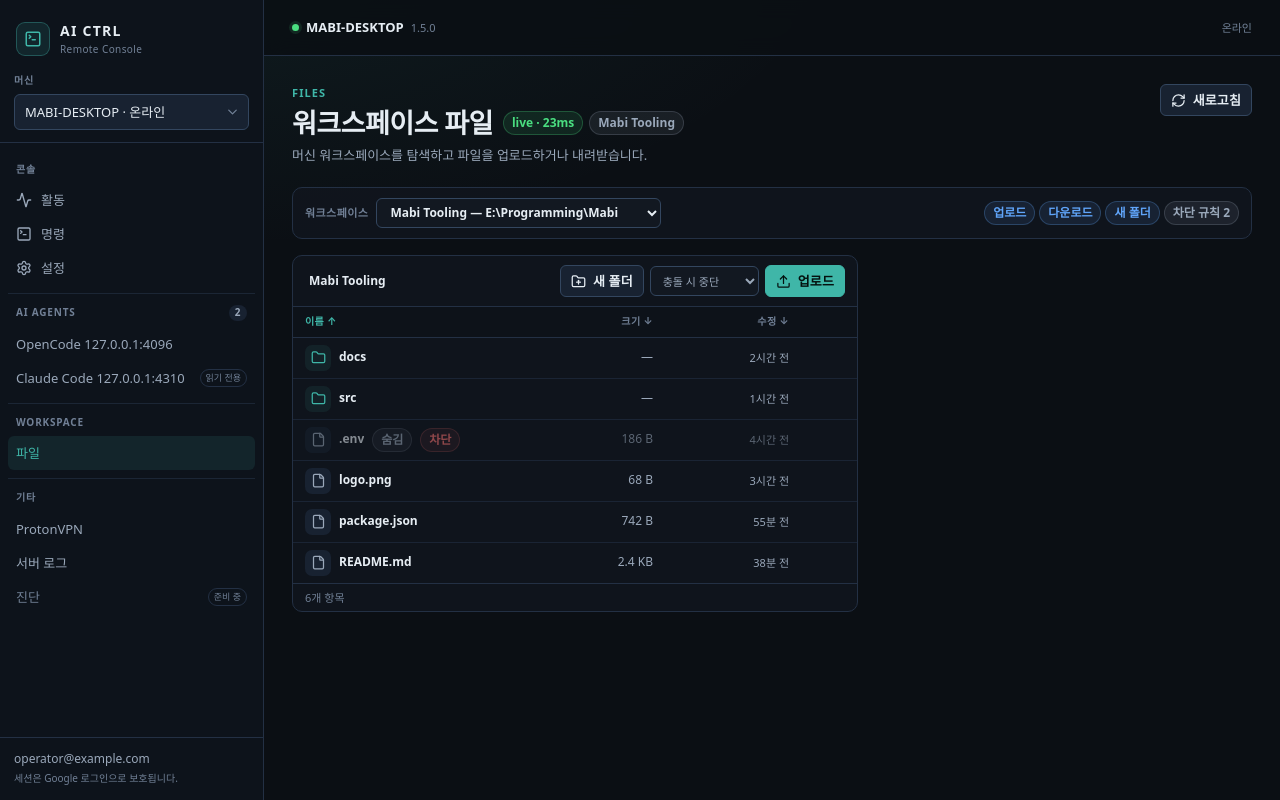
application integration › creates a folder from the files toolbar
Expected: the heading "워크스페이스 파일" is shown, [292,106,493,140]
Click the button "새 폴더" at (602, 281), box [560,265,644,297]
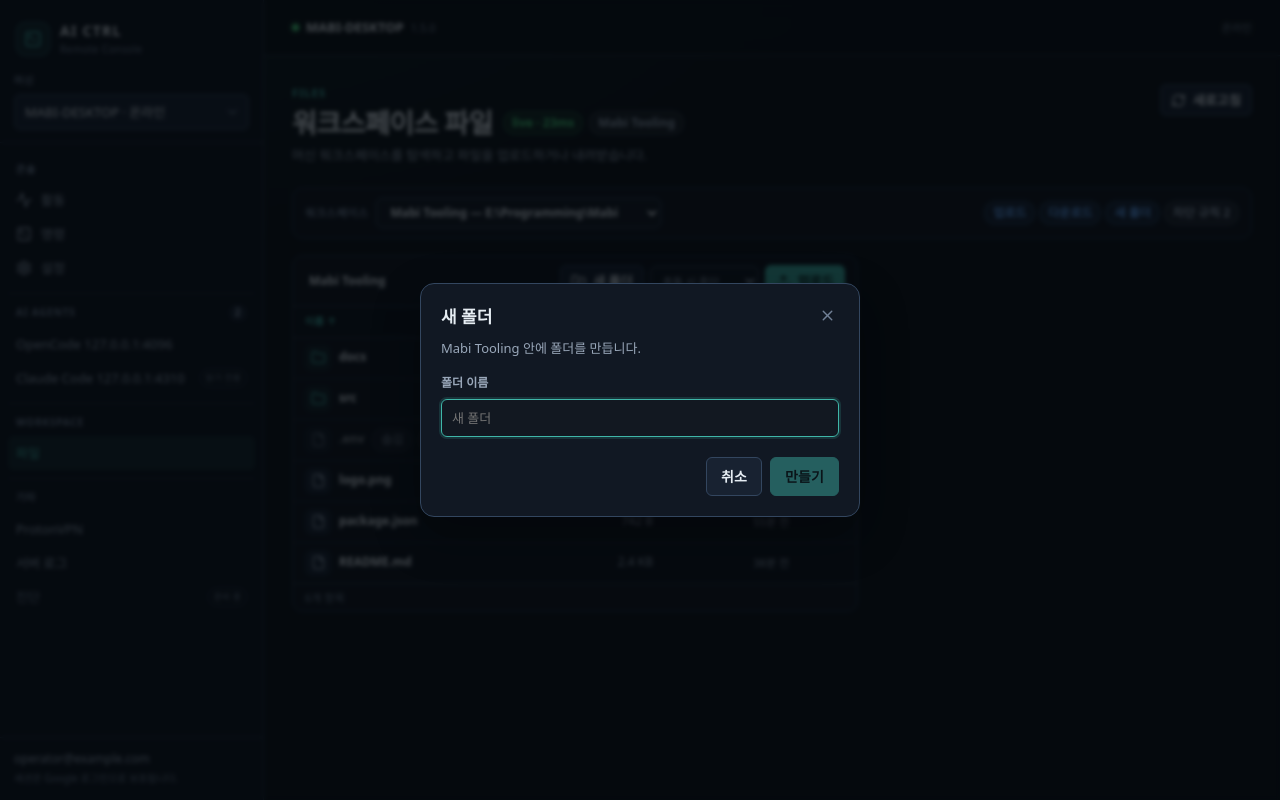
Type "archive" into the field labelled "폴더 이름" at (640, 418), box [441,399,839,437]
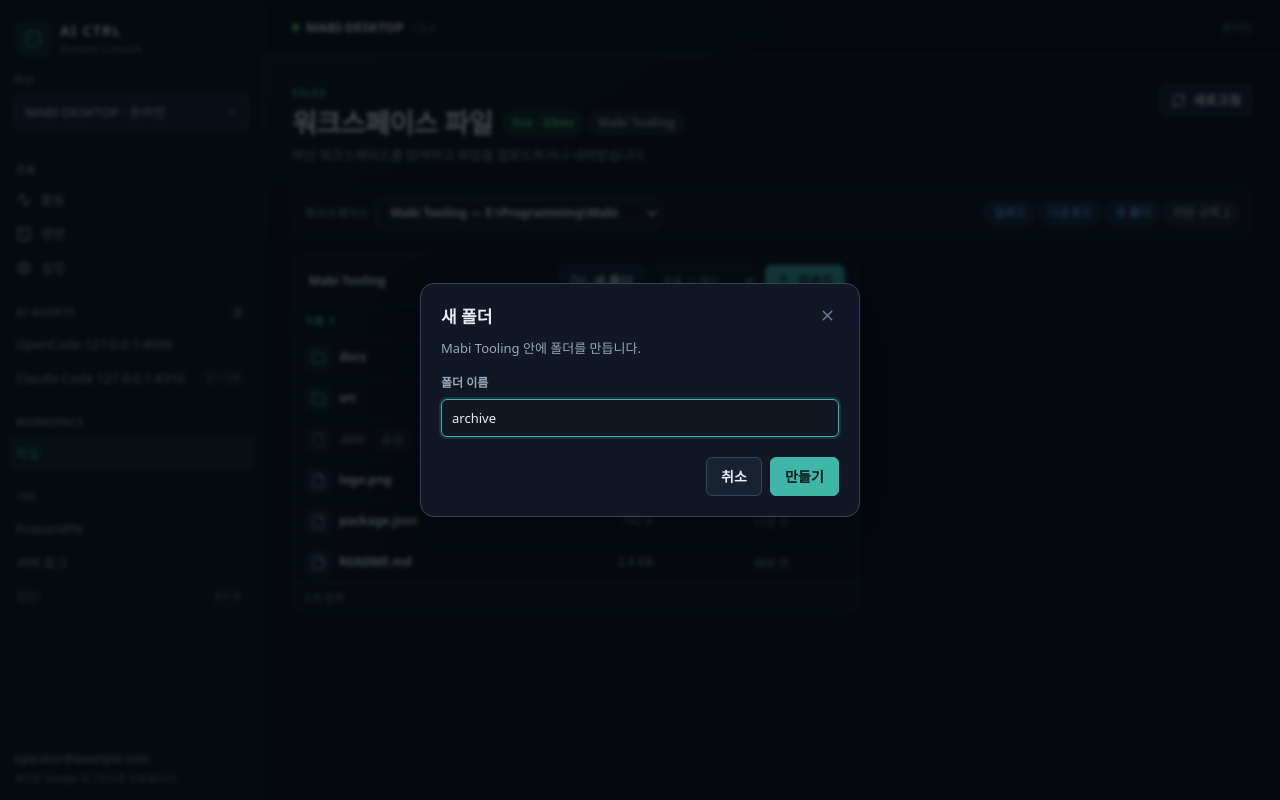
Click the button "만들기" at (804, 477), box [770,457,839,496]
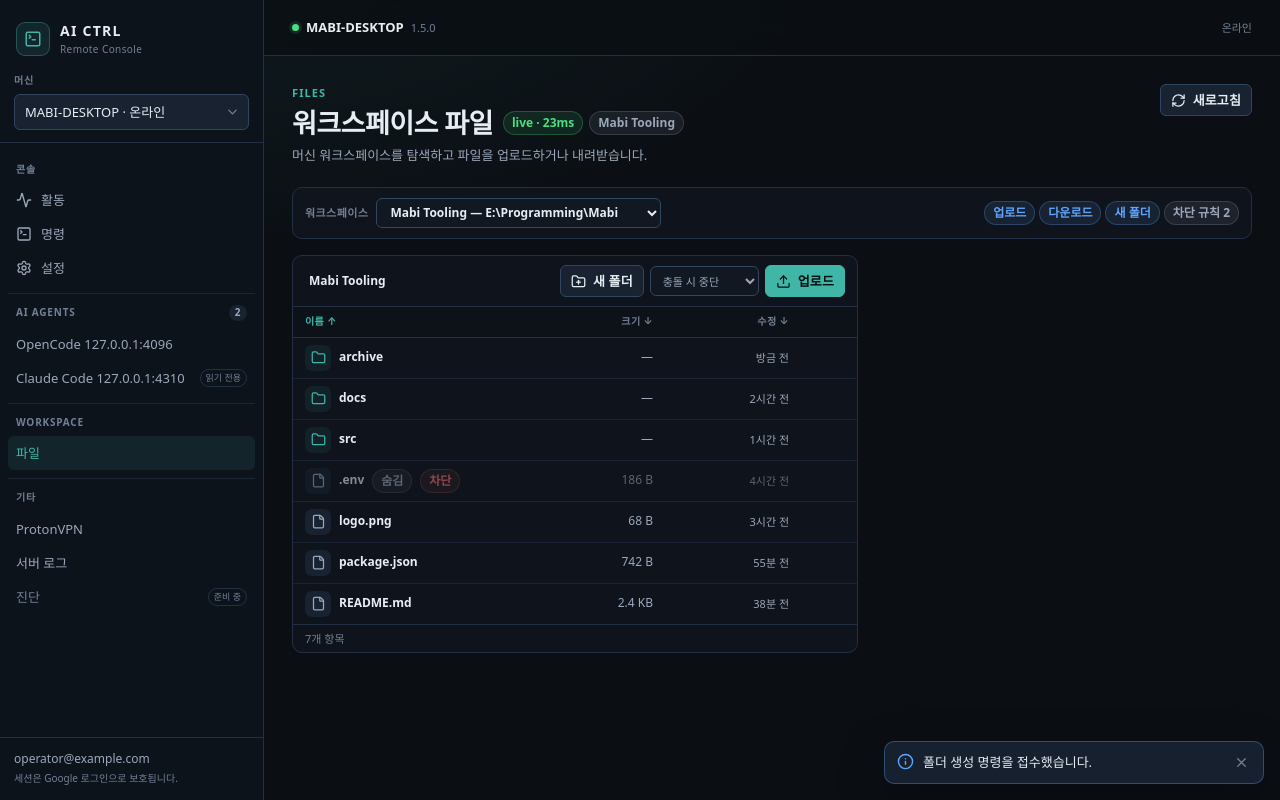
Result: the text "폴더 생성 명령을 접수했습니다." is shown at [923,752,1092,770]
Result: the button "archive" is shown at [305,342,557,374]
